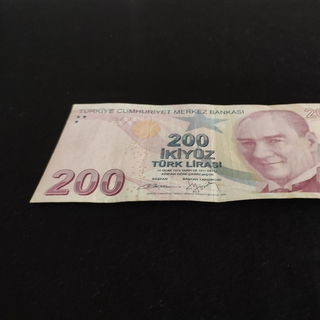200TLFront: (29, 102, 320, 203)
